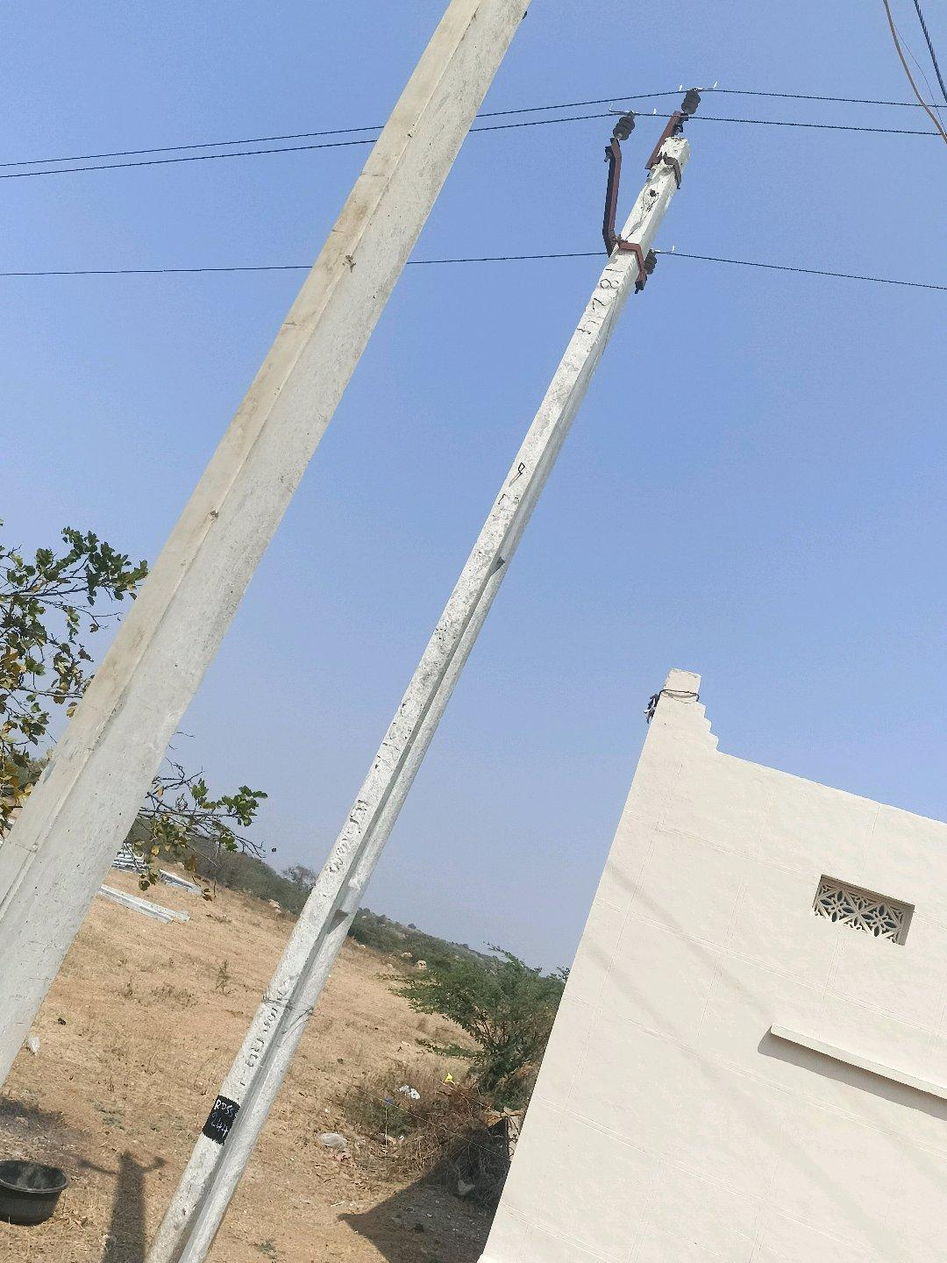{"0" "insulator", "1" "pole", "2" "crossarm", "3" "conductor", "4" "street_: (146, 93, 699, 1262)
